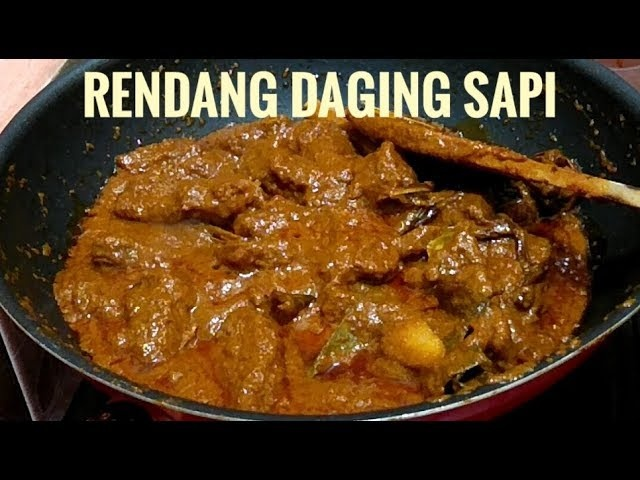rendang: (75, 130, 530, 389)
